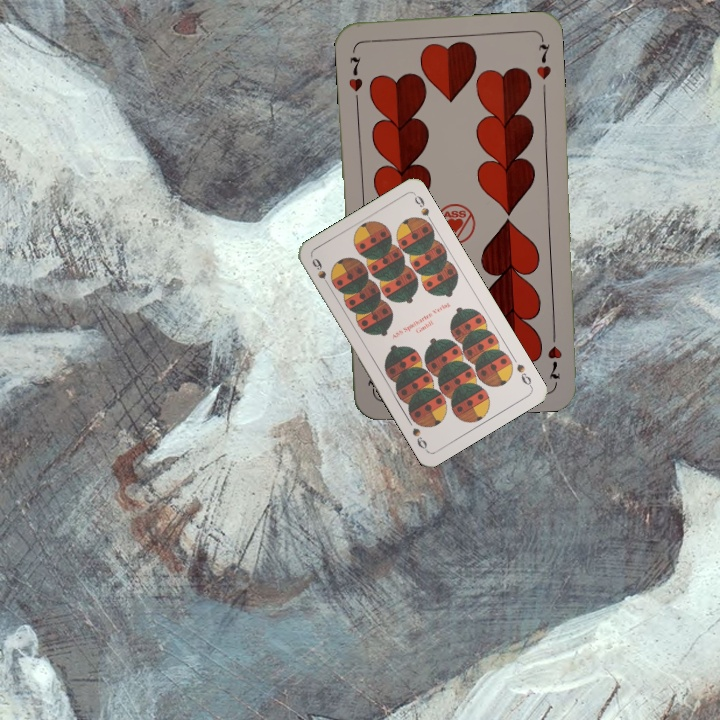H7: (544, 326, 565, 385), (344, 53, 366, 94)
S9: (308, 254, 334, 291), (512, 359, 535, 390)
